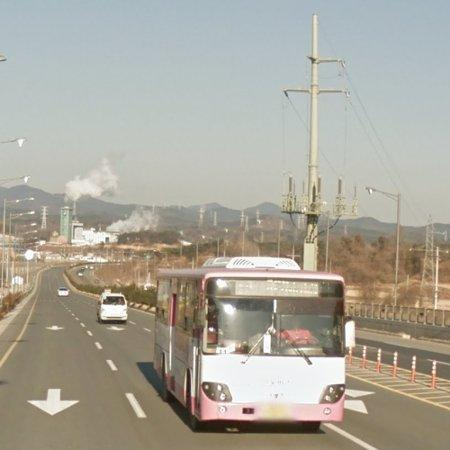buses: (154, 257, 345, 431)
